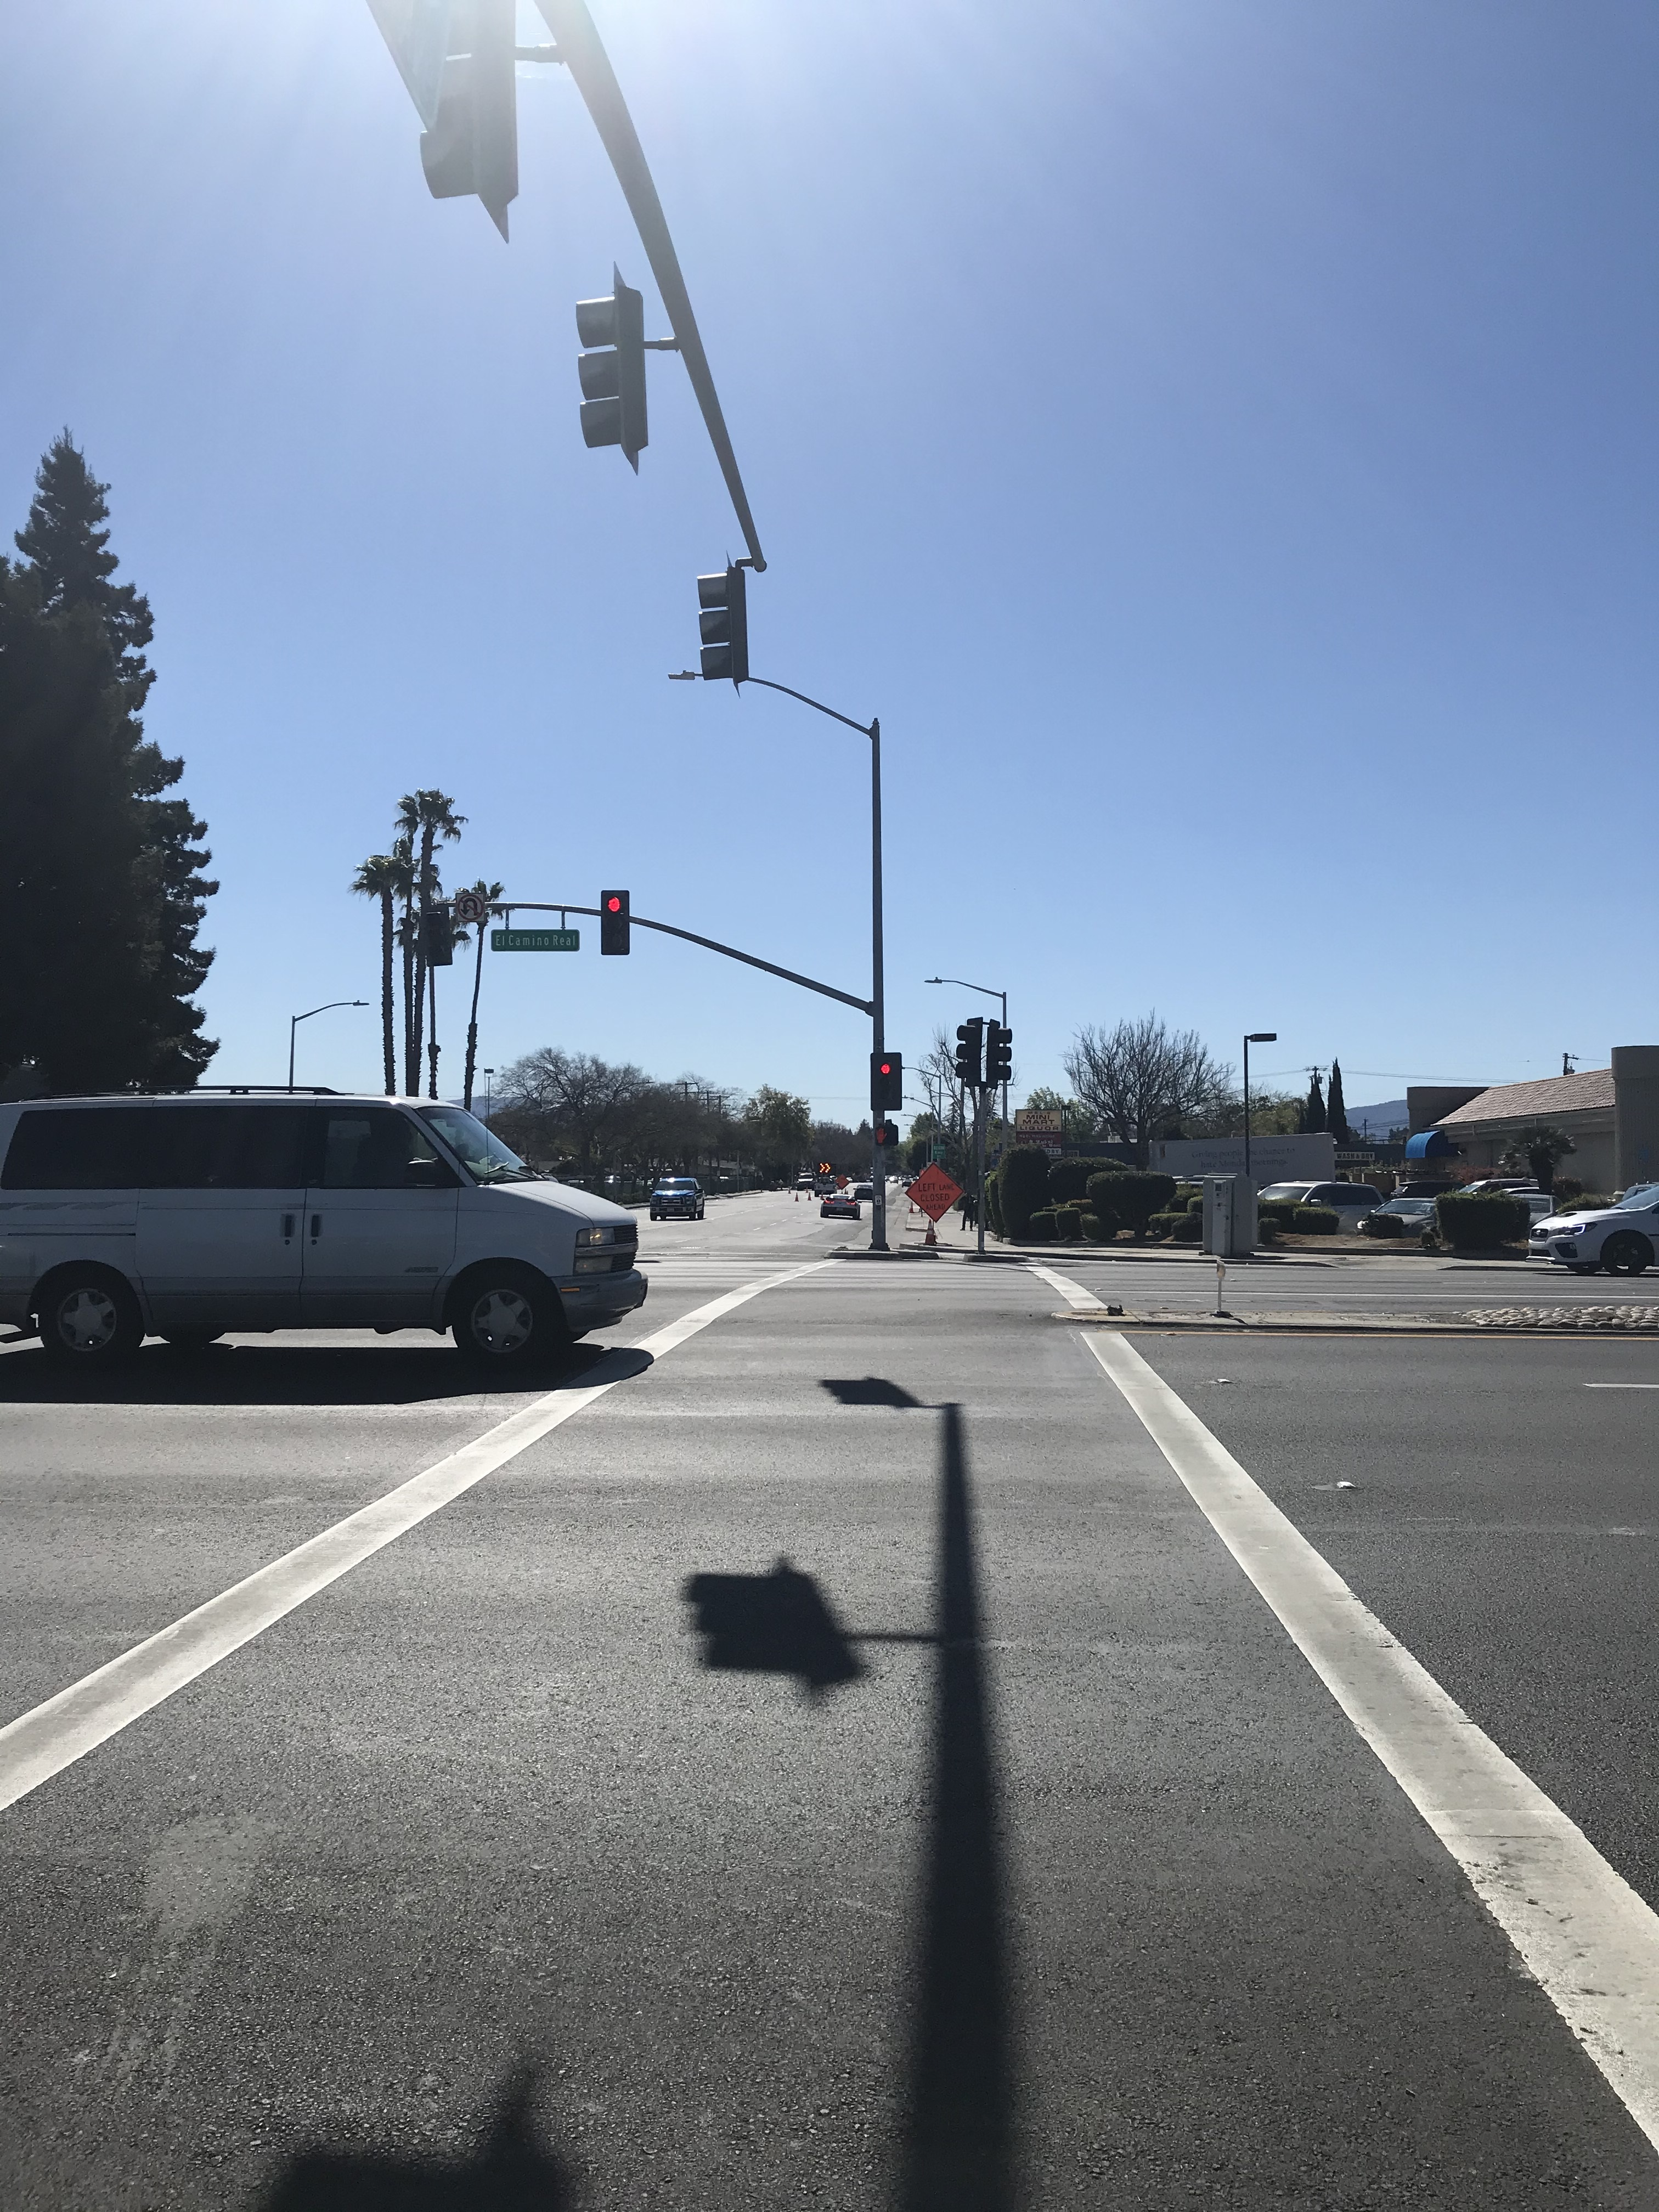red_light: (601, 890, 629, 951), (875, 1052, 897, 1103)
